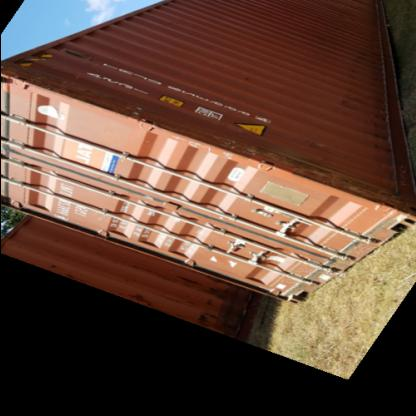Damage: (215, 135, 399, 209), (1, 57, 114, 111), (338, 36, 364, 119)
